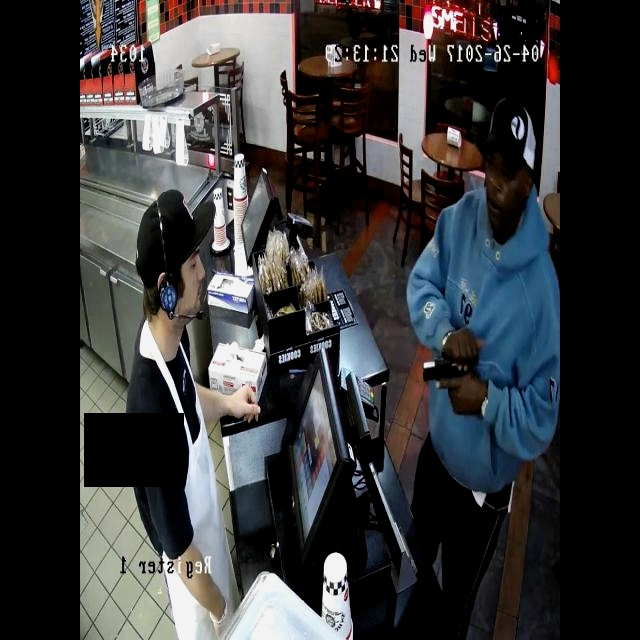gun: (413, 328, 488, 403)
